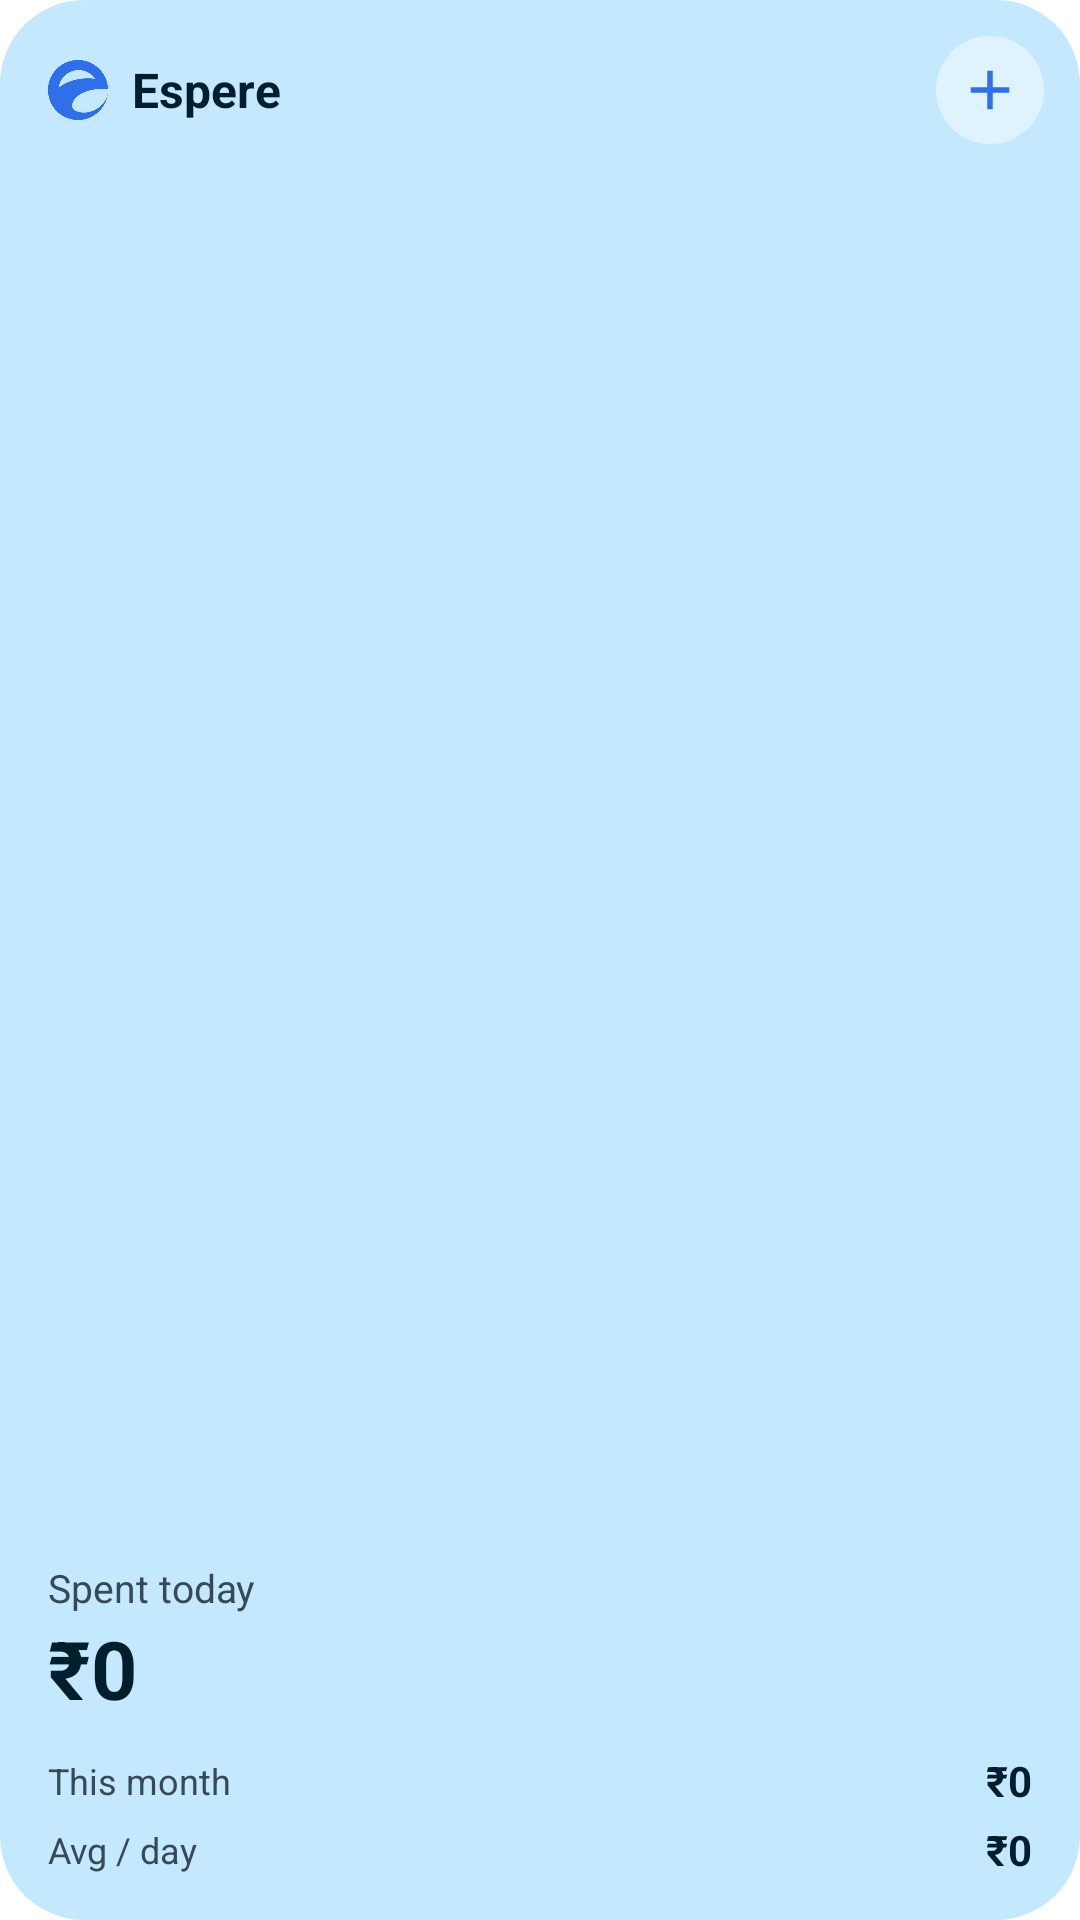

Where to tap for icons on this 1080×1920 app screen, as point (x, y):
plus: point (990, 90)
